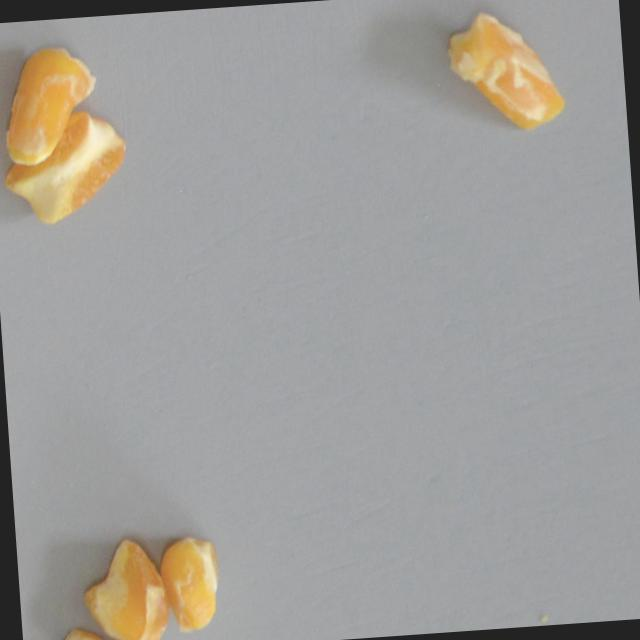pelicula: (441, 5, 567, 140), (0, 109, 130, 228), (0, 41, 99, 167), (77, 535, 167, 640), (156, 532, 223, 636), (48, 619, 162, 640)
